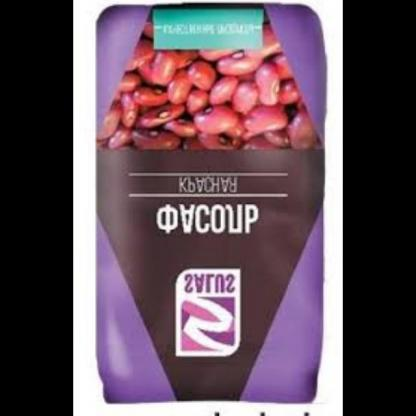fasol: (83, 28, 326, 159)
